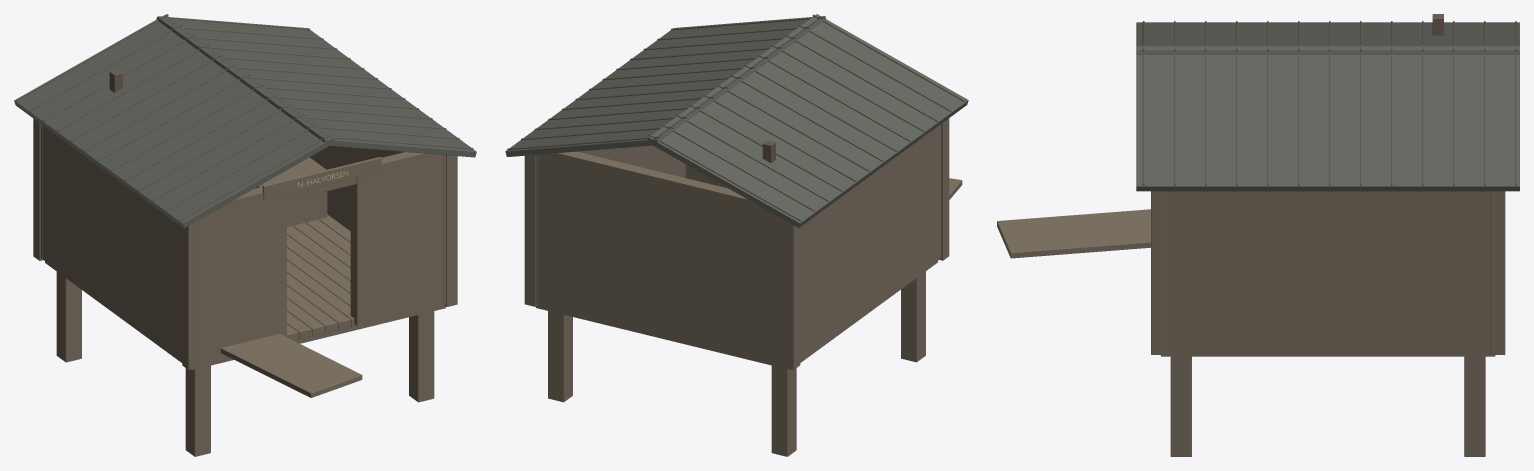
The model's file is prop_trapper_cabin.glb.
The picture shows the model from 3 angles, left to right: view 1: azimuth 30°, elevation 25°; view 2: azimuth 150°, elevation 25°; view 3: azimuth 270°, elevation 25°; orthographic projection. The views are drawn at different scales.
Visible parts, largest first — view 1: FL_trapper_roof, COL_wall_trapper_west, FL_trapper_roof.001, COL_wall_trapper_frontR, COL_wall_trapper_frontL, FL_trapper_fallen_door, FL_trapper_corner.001, COL_wall_trapper_east, FL_trapper_footing.001, FL_trapper_footing.003, FL_trapper_footing, FL_trapper_nameboard (+15 smaller); view 2: COL_wall_trapper_back, FL_trapper_roof, COL_wall_trapper_west, FL_trapper_roof.001, FL_trapper_corner, FL_trapper_footing, FL_trapper_footing.002, COL_wall_trapper_east, FL_trapper_footing.001, FL_trapper_corner.002, COL_floor_trapper, FL_trapper_corner.001; view 3: FL_trapper_roof.001, COL_wall_trapper_east, FL_trapper_roof, FL_trapper_fallen_door, FL_trapper_corner.002, FL_trapper_corner.003, FL_trapper_footing.002, FL_trapper_footing.003, COL_floor_trapper.
Part boxes in pixels (left/top/right/bottom): FL_trapper_roof: left=14, top=14, right=334, bottom=228; COL_wall_trapper_west: left=42, top=125, right=200, bottom=364; FL_trapper_roof.001: left=156, top=16, right=476, bottom=157; COL_wall_trapper_frontR: left=350, top=152, right=443, bottom=325; COL_wall_trapper_frontL: left=201, top=187, right=286, bottom=363; FL_trapper_fallen_door: left=220, top=333, right=362, bottom=397; FL_trapper_corner.001: left=182, top=220, right=199, bottom=369; COL_wall_trapper_east: left=310, top=146, right=445, bottom=304; FL_trapper_footing.001: left=185, top=365, right=210, bottom=456; FL_trapper_footing.003: left=409, top=311, right=434, bottom=402; FL_trapper_footing: left=56, top=272, right=81, bottom=362; FL_trapper_nameboard: left=262, top=157, right=381, bottom=200; COL_wall_trapper_back: left=538, top=151, right=781, bottom=363; FL_trapper_roof: left=647, top=14, right=968, bottom=228; COL_wall_trapper_west: left=781, top=124, right=941, bottom=364; FL_trapper_roof.001: left=505, top=16, right=825, bottom=156; FL_trapper_corner: left=783, top=219, right=800, bottom=369; FL_trapper_footing: left=771, top=365, right=796, bottom=456; FL_trapper_footing.002: left=548, top=311, right=572, bottom=402; COL_wall_trapper_east: left=536, top=145, right=685, bottom=304; FL_trapper_footing.001: left=901, top=271, right=925, bottom=362; FL_trapper_corner.002: left=524, top=155, right=537, bottom=306; COL_floor_trapper: left=536, top=261, right=937, bottom=369; FL_trapper_corner.001: left=939, top=118, right=949, bottom=260; FL_trapper_roof.001: left=1136, top=46, right=1519, bottom=191; COL_wall_trapper_east: left=1165, top=191, right=1487, bottom=351; FL_trapper_roof: left=1136, top=22, right=1519, bottom=54; FL_trapper_fallen_door: left=997, top=209, right=1150, bottom=258; FL_trapper_corner.002: left=1490, top=191, right=1505, bottom=354; FL_trapper_corner.003: left=1151, top=191, right=1165, bottom=354; FL_trapper_footing.002: left=1464, top=356, right=1485, bottom=456; FL_trapper_footing.003: left=1170, top=356, right=1191, bottom=456; COL_floor_trapper: left=1161, top=351, right=1495, bottom=356.
Bounding box in the file's own units: 4.75 × 4.65 × 6.41.
